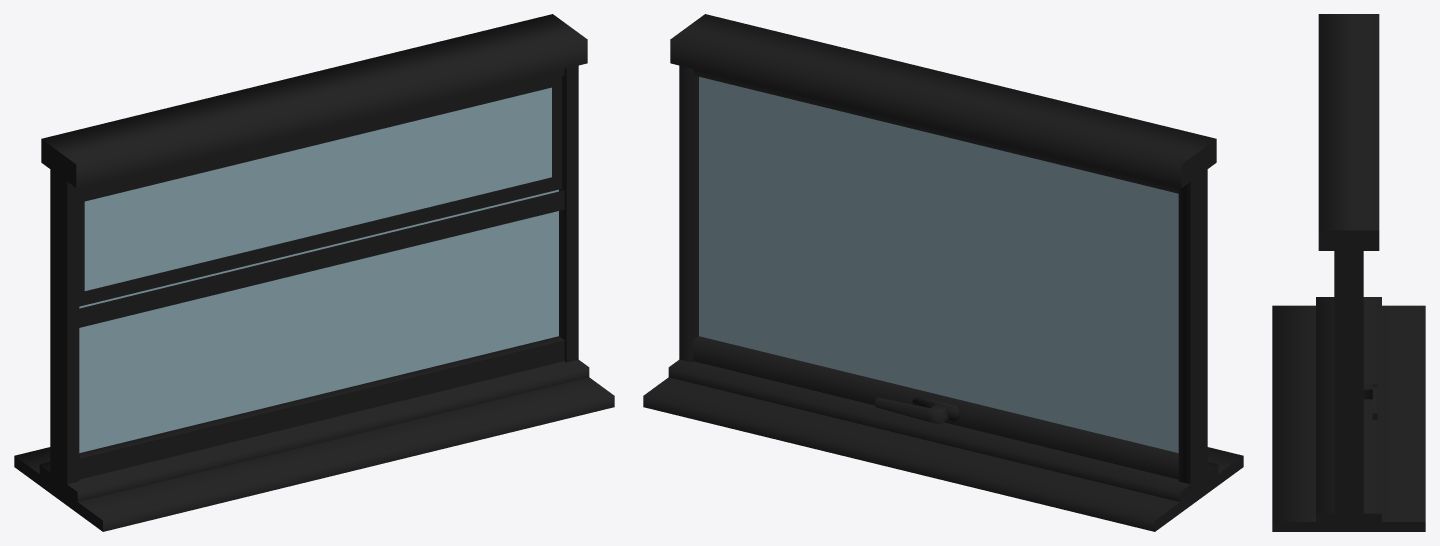
File: G_Window_008_S1.FBX
3 views of the same model, side by side, from view 1: azimuth 30°, elevation 25°; view 2: azimuth 150°, elevation 25°; view 3: azimuth 270°, elevation 25° (orthographic). The views are drawn at different scales.
Visible parts, largest first — view 1: S_M_Ornament_Window008_3x1x2_LOD; view 2: S_M_Ornament_Window008_3x1x2_LOD; view 3: S_M_Ornament_Window008_3x1x2_LOD.
Boxes of the visible parts, x1,y1,x2,y2 form: S_M_Ornament_Window008_3x1x2_LOD: (14,14,614,531); S_M_Ornament_Window008_3x1x2_LOD: (643,14,1243,531); S_M_Ornament_Window008_3x1x2_LOD: (1272,14,1425,531).
Bounding box in the file's own units: 300 × 195 × 90.
